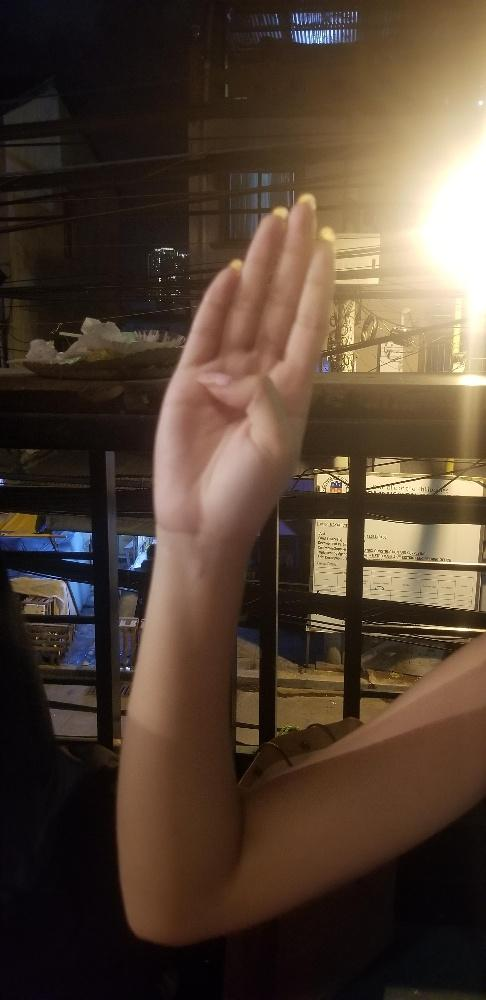b: (149, 190, 342, 541)
